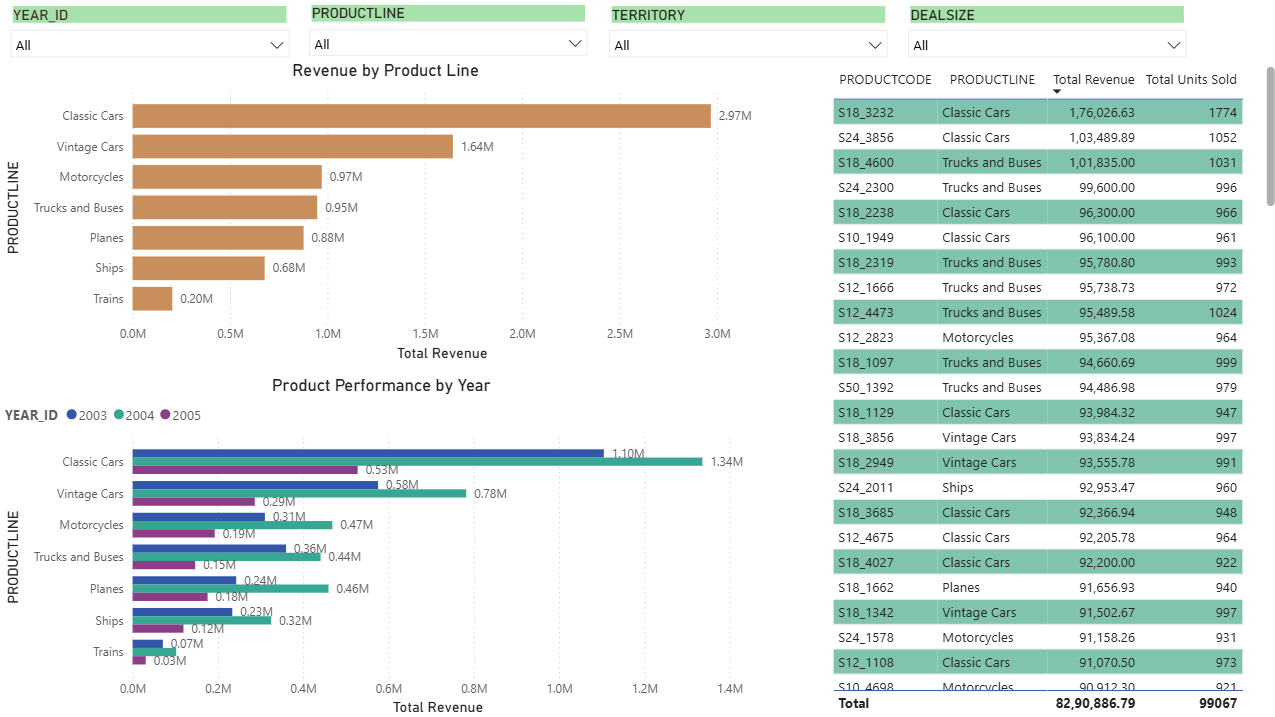

The page's visual inventory and layout, read from the dashboard file:
{"tool":"powerbi","page":{"name":"Products","canvas":[1280,720],"ordinal":1},"visuals":[{"type":"barChart","title":"Revenue by Product Line","fields":{"Category":["Sales.PRODUCTLINE"],"Y":["Sales.Total Revenue"]},"box":[0,59.6,771.1,306.4],"z":0},{"type":"clusteredBarChart","title":"Product Performance by Year","fields":{"Category":["Sales.PRODUCTLINE"],"Y":["Sales.Total Revenue"],"Series":["Sales.YEAR_ID"]},"box":[0,374.5,762.6,345.5],"z":1000},{"type":"tableEx","fields":{"Values":["Sales.PRODUCTCODE","Sales.PRODUCTLINE","Sales.Total Revenue","_Measures.Total Units Sold"]},"box":[827.2,61.3,452.8,658.7],"z":2000},{"type":"slicer","fields":{"Values":["Sales.YEAR_ID"]},"box":[0,1.7,299.6,59.6],"z":3000},{"type":"slicer","fields":{"Values":["Sales.PRODUCTLINE"]},"box":[299.1,0,299.1,59],"z":4000},{"type":"slicer","fields":{"Values":["Sales.TERRITORY"]},"box":[598.3,1.4,299.1,59],"z":5000},{"type":"slicer","fields":{"Values":["Sales.DEALSIZE"]},"box":[897.4,1.4,299.1,59],"z":6000}]}

Visuals, with their boxes in screenshot pixels (x1, y1, x2, y2), scaled from the page's 1280x720 canvas onto the 1275x717 screenshot:
"Revenue by Product Line" barChart: region(0, 59, 768, 364)
"Product Performance by Year" clusteredBarChart: region(0, 373, 760, 716)
tableEx - Sales.PRODUCTCODE x Sales.PRODUCTLINE: region(824, 61, 1274, 716)
slicer - Sales.YEAR_ID: region(0, 2, 298, 61)
slicer - Sales.PRODUCTLINE: region(298, 0, 596, 59)
slicer - Sales.TERRITORY: region(596, 1, 894, 60)
slicer - Sales.DEALSIZE: region(894, 1, 1192, 60)
